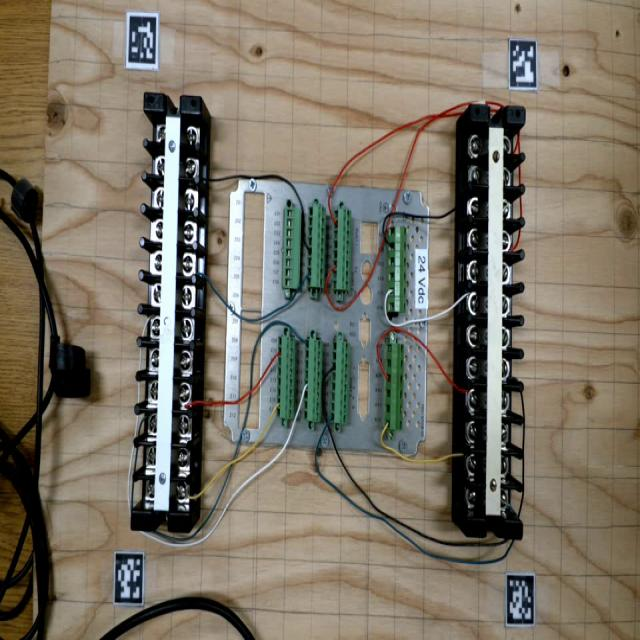Flathead_Block: (466, 104, 525, 539)
Phillips_Block: (131, 92, 203, 533)
Terminal_1: (387, 226, 407, 313), (384, 343, 404, 430)
Terminal_2: (330, 341, 350, 424), (276, 336, 296, 418), (304, 339, 323, 422), (332, 208, 351, 291), (307, 206, 326, 288)
